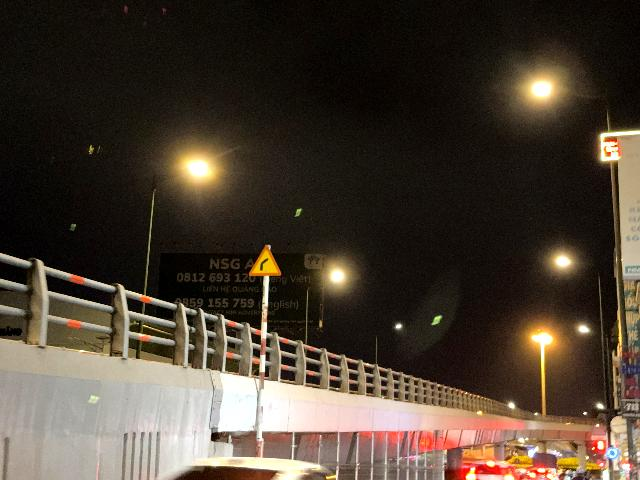cho-ngoat-nguy-hiem-ben-phai: (248, 244, 282, 276)
